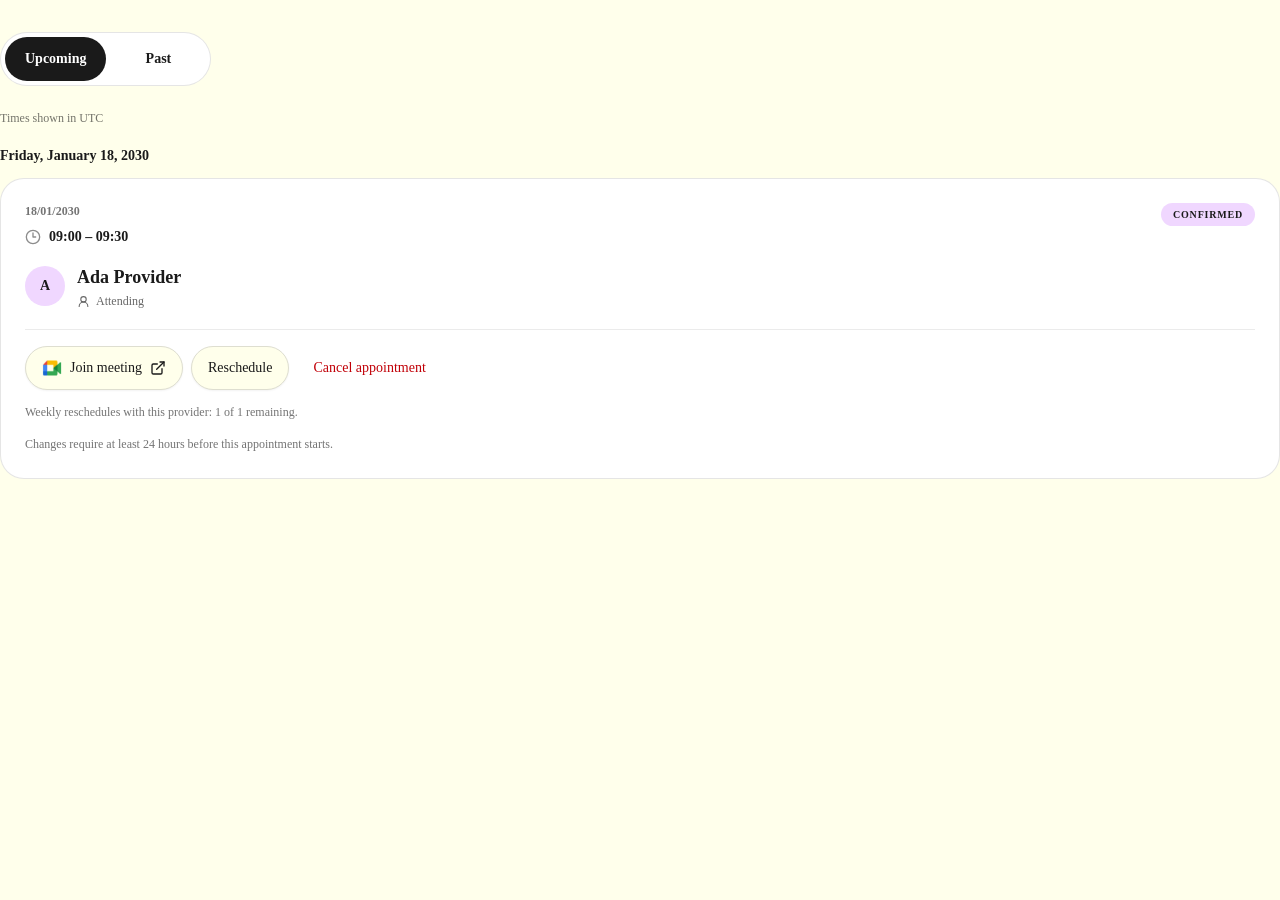
it: appointment agenda › uses the shared slot picker and preserves occurrence identity when rescheduling
Click the button "Reschedule": (240, 368) [191,346,289,390]
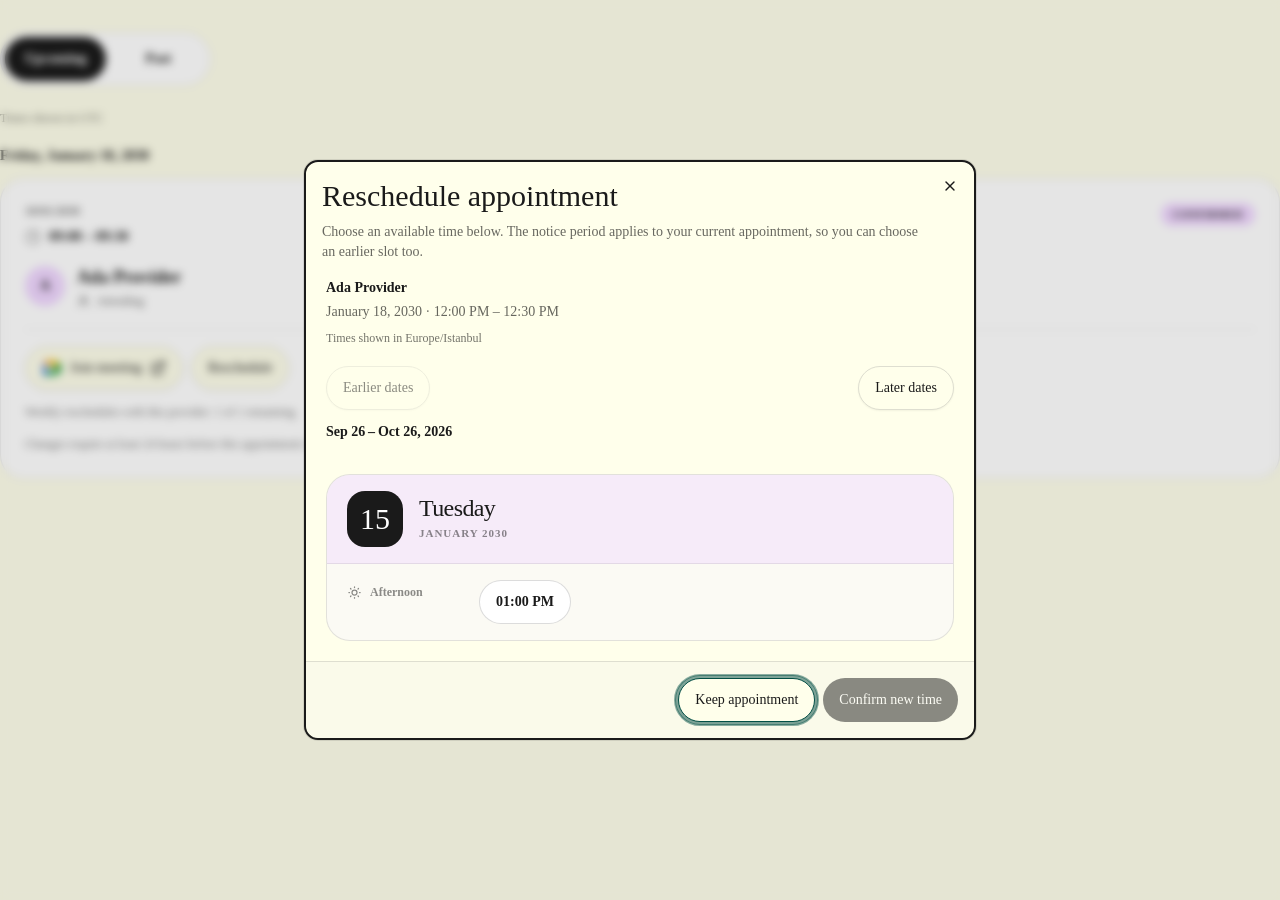
Click the button with aria-label "Tuesday, January 15, 2030": (525, 602) [479,580,571,624]
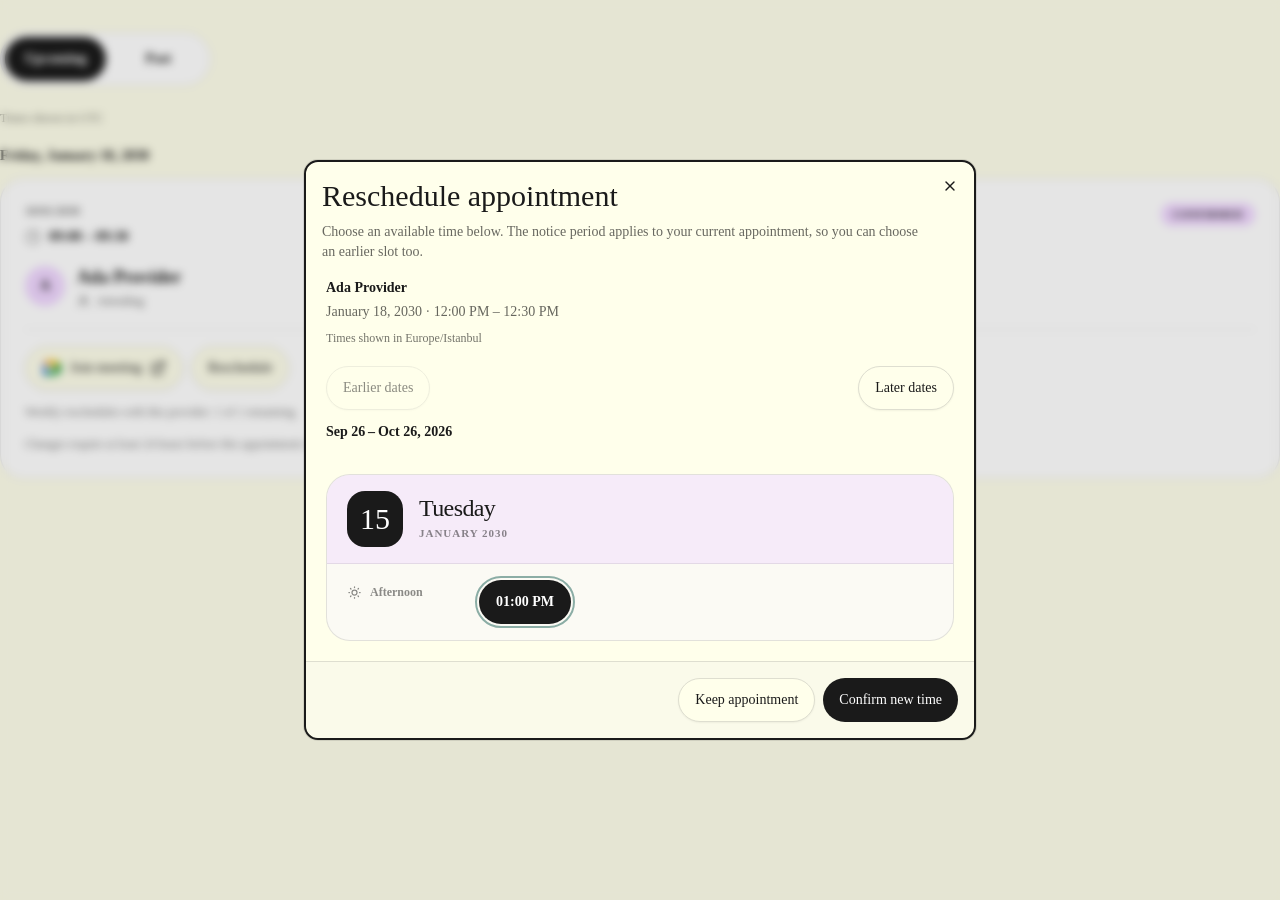
Expected: the button with aria-label "Tuesday, January 15, 2030" is pressed, [479,580,571,624]
Click the button "Confirm new time": (891, 700) [823,678,958,722]
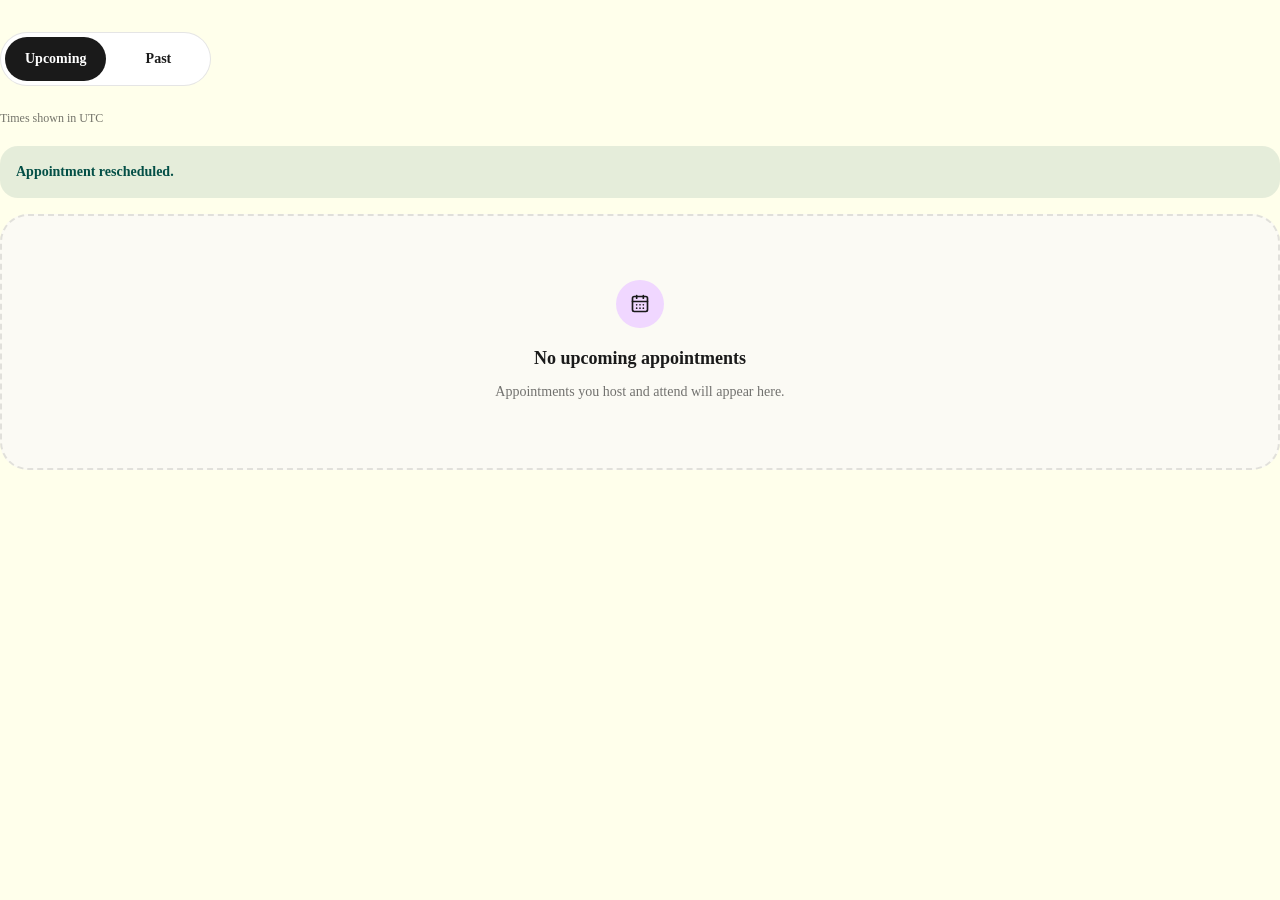
Expected: the text "Appointment rescheduled." is shown, [0,146,1279,198]
